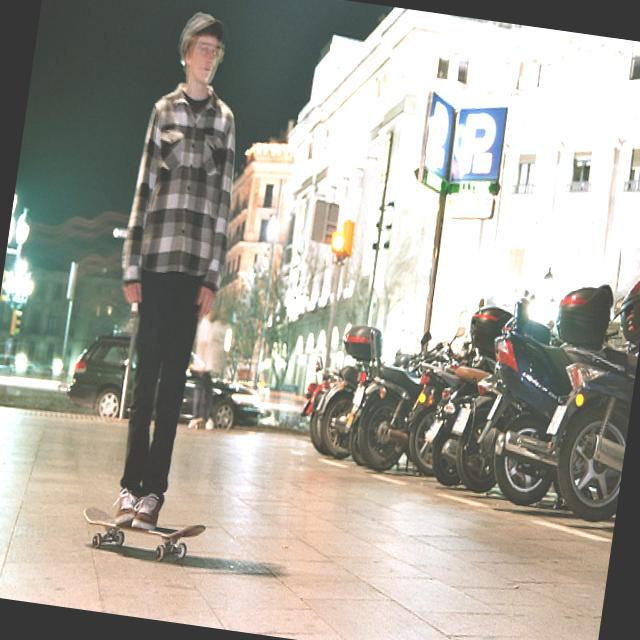Vehicle: (468, 270, 618, 509), (424, 287, 558, 496), (66, 330, 270, 440), (542, 339, 638, 524), (341, 332, 430, 475), (310, 320, 384, 462), (403, 342, 468, 476), (444, 374, 510, 496)
